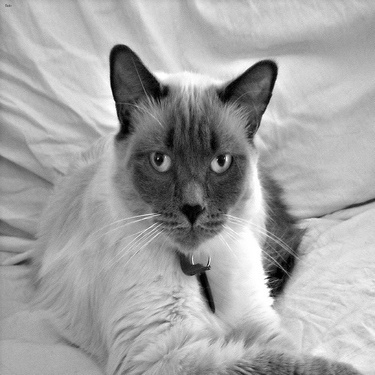cat: (34, 44, 303, 367)
